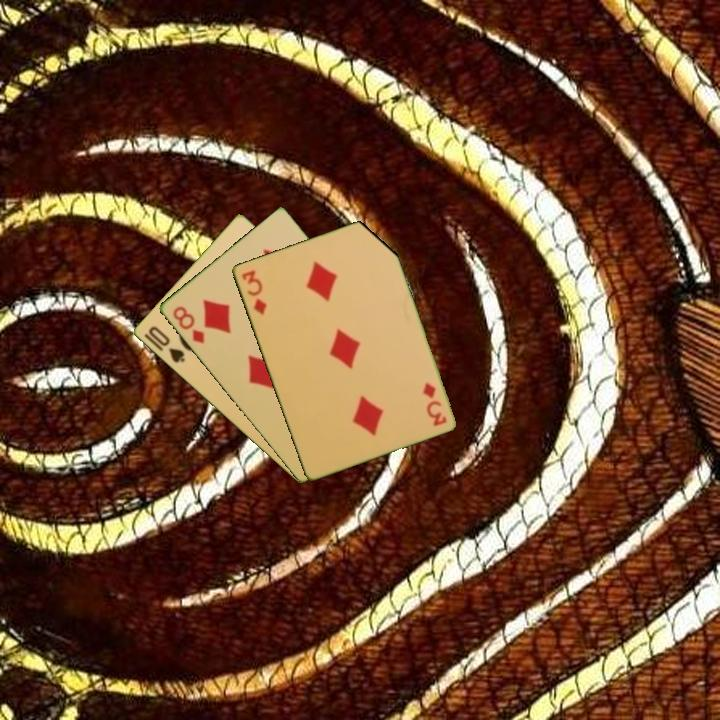10s: (145, 323, 188, 366)
3d: (238, 266, 269, 317), (418, 379, 449, 429)
8d: (169, 302, 207, 347)
